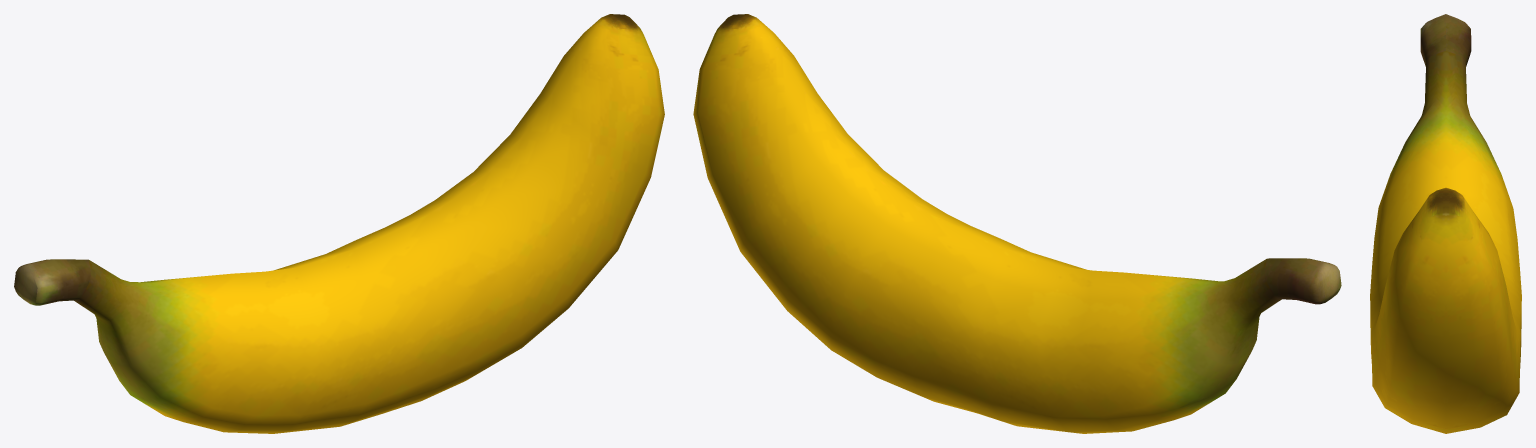
The model's file is Banana.fbx.
3 views of the same model, side by side, from view 1: azimuth 30°, elevation 25°; view 2: azimuth 150°, elevation 25°; view 3: azimuth 270°, elevation 25° (orthographic).
Parts seen in each view (by area): view 1: Banana; view 2: Banana; view 3: Banana.
Boxes of the visible parts, left/top/right/bottom form: Banana: left=14, top=14, right=664, bottom=433; Banana: left=693, top=14, right=1341, bottom=433; Banana: left=1370, top=14, right=1521, bottom=433.
Size of the model in its own units: 380 by 194 by 80.25.
